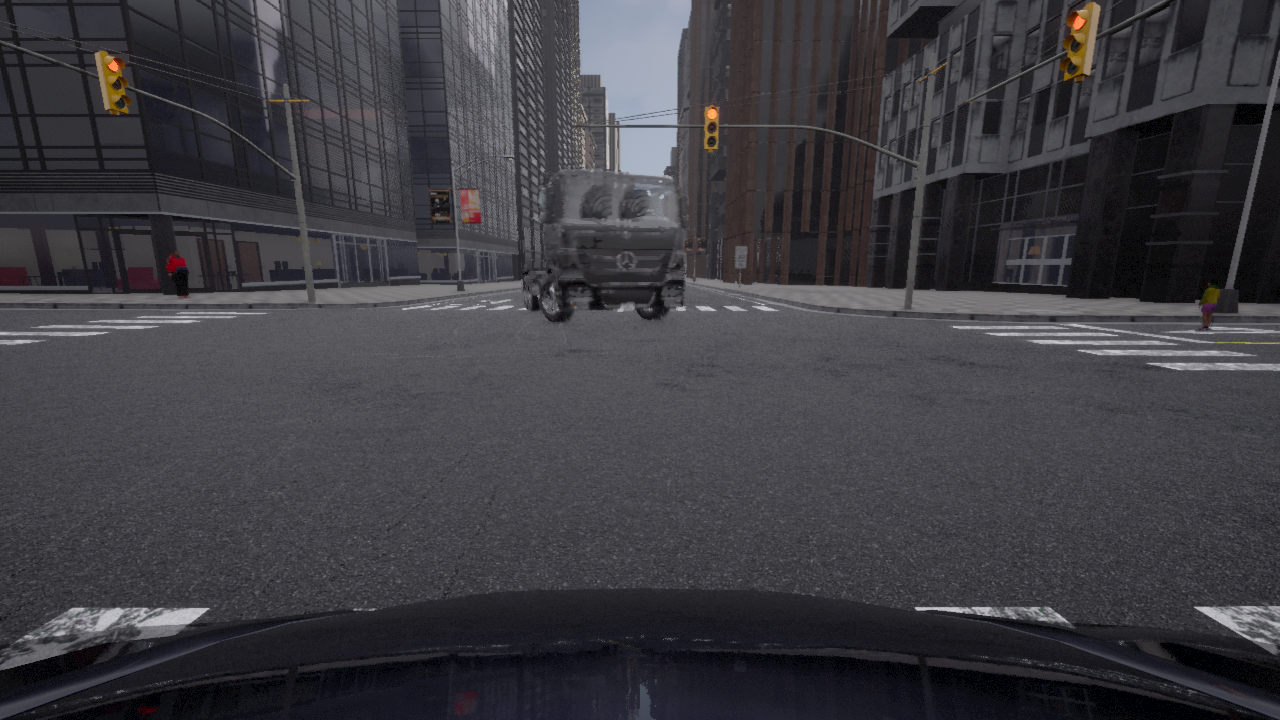cyclist: (0, 588, 1279, 719), (521, 169, 687, 322), (681, 271, 684, 277)
pedestrian: (1197, 278, 1220, 330), (166, 250, 190, 298)
